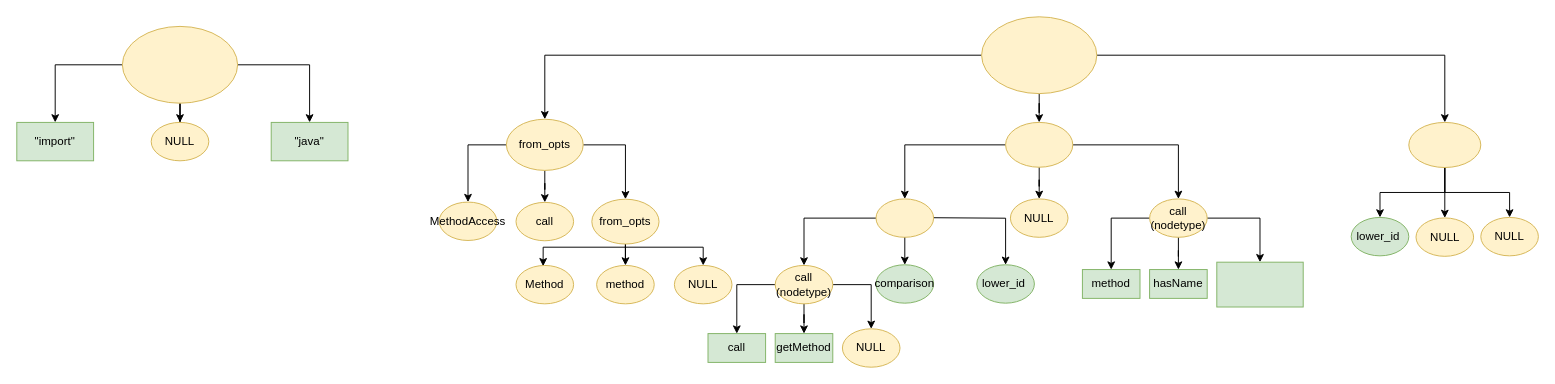
This 1555x384 diagram has some shape labels left out. Each missing label, with the centre of its shape:
"getMaxFrameSize": (1259,284)
formula_1: (904,217)
import_stmt: (179,64)
select_opts: (1444,144)
select_stmt: (1039,55)
where_opts: (1039,144)
